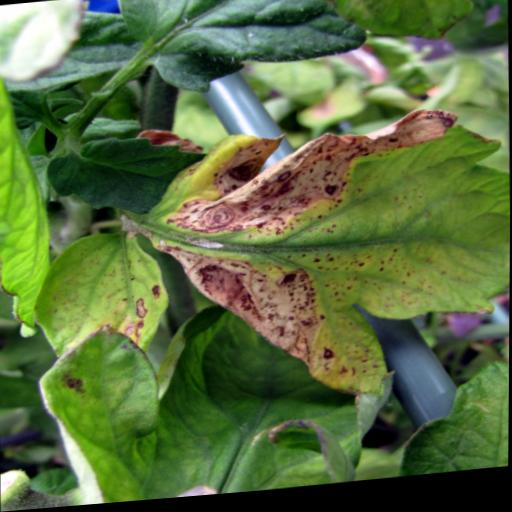Early Blight: (141, 108, 511, 414), (32, 227, 173, 364)
Healthy: (116, 0, 369, 104), (47, 130, 206, 222)
